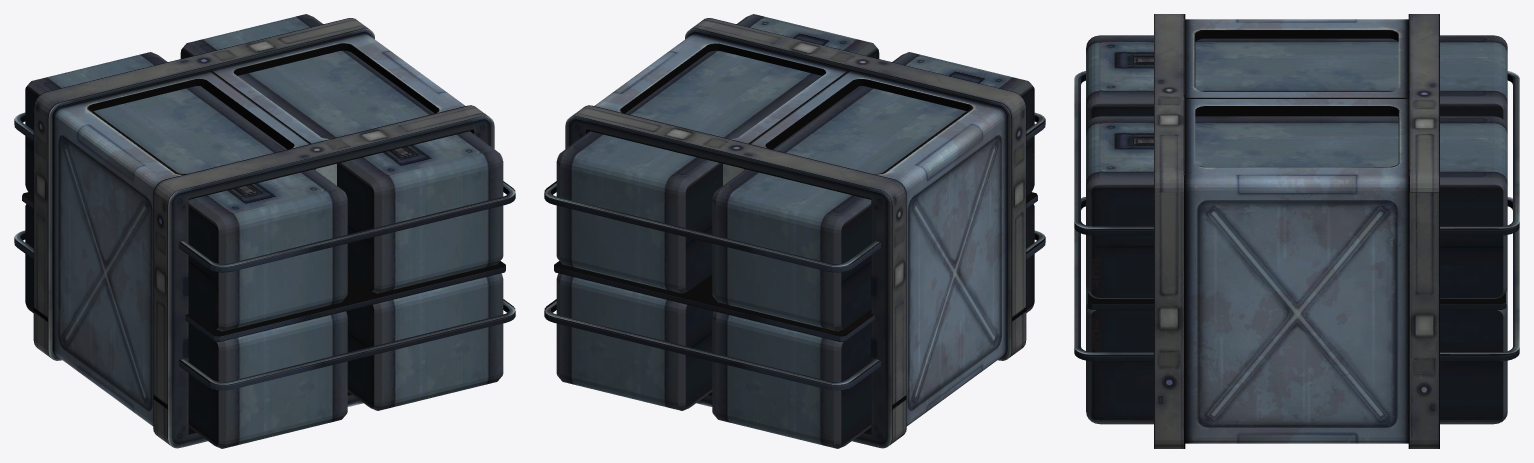
File: space-crate.obj
3 renders of one model, left to right at view 1: azimuth 30°, elevation 25°; view 2: azimuth 150°, elevation 25°; view 3: azimuth 270°, elevation 25°, orthographic. The views are drawn at different scales.
Visible parts, largest first — view 1: Mesh5 default_de1 skp51D1 Halo_3_forge_item_Spacecrate__Shitcrat, Mesh2 Component_2_2 default_de1 skp51D1 Halo_3_forge_item_Spacec, Mesh1 Component_2_1 default_de1 skp51D1 Halo_3_forge_item_Spacec, Mesh3 Component_2_3 default_de1 skp51D1 Halo_3_forge_item_Spacec, Mesh4 Component_2_4 default_de1 skp51D1 Halo_3_forge_item_Spacec, Mesh7 default_de1 skp51D1 Halo_3_forge_item_Spacecrate__Shitcrat, Mesh10 default_de1 skp51D1 Halo_3_forge_item_Spacecrate__Shitcra, Mesh8 default_de1 skp51D1 Halo_3_forge_item_Spacecrate__Shitcrat, Mesh6 default_de1 skp51D1 Halo_3_forge_item_Spacecrate__Shitcrat; view 2: Mesh5 default_de1 skp51D1 Halo_3_forge_item_Spacecrate__Shitcrat, Mesh2 Component_2_2 default_de1 skp51D1 Halo_3_forge_item_Spacec, Mesh1 Component_2_1 default_de1 skp51D1 Halo_3_forge_item_Spacec, Mesh3 Component_2_3 default_de1 skp51D1 Halo_3_forge_item_Spacec, Mesh4 Component_2_4 default_de1 skp51D1 Halo_3_forge_item_Spacec, Mesh7 default_de1 skp51D1 Halo_3_forge_item_Spacecrate__Shitcrat, Mesh11 default_de1 skp51D1 Halo_3_forge_item_Spacecrate__Shitcra, Mesh9 default_de1 skp51D1 Halo_3_forge_item_Spacecrate__Shitcrat, Mesh6 default_de1 skp51D1 Halo_3_forge_item_Spacecrate__Shitcrat; view 3: Mesh5 default_de1 skp51D1 Halo_3_forge_item_Spacecrate__Shitcrat, Mesh1 Component_2_1 default_de1 skp51D1 Halo_3_forge_item_Spacec, Mesh2 Component_2_2 default_de1 skp51D1 Halo_3_forge_item_Spacec, Mesh4 Component_2_4 default_de1 skp51D1 Halo_3_forge_item_Spacec, Mesh11 default_de1 skp51D1 Halo_3_forge_item_Spacecrate__Shitcra, Mesh10 default_de1 skp51D1 Halo_3_forge_item_Spacecrate__Shitcra, Mesh9 default_de1 skp51D1 Halo_3_forge_item_Spacecrate__Shitcrat, Mesh8 default_de1 skp51D1 Halo_3_forge_item_Spacecrate__Shitcrat, Mesh7 default_de1 skp51D1 Halo_3_forge_item_Spacecrate__Shitcrat, Mesh6 default_de1 skp51D1 Halo_3_forge_item_Spacecrate__Shitcrat.
Boxes of the visible parts, x1,y1,x2,y2 form: Mesh5 default_de1 skp51D1 Halo_3_forge_item_Spacecrate__Shitcrat: [33, 18, 494, 448]; Mesh2 Component_2_2 default_de1 skp51D1 Halo_3_forge_item_Spacec: [25, 52, 347, 331]; Mesh1 Component_2_1 default_de1 skp51D1 Halo_3_forge_item_Spacec: [180, 14, 503, 293]; Mesh3 Component_2_3 default_de1 skp51D1 Halo_3_forge_item_Spacec: [25, 204, 347, 448]; Mesh4 Component_2_4 default_de1 skp51D1 Halo_3_forge_item_Spacec: [346, 273, 503, 410]; Mesh7 default_de1 skp51D1 Halo_3_forge_item_Spacecrate__Shitcrat: [22, 192, 505, 341]; Mesh10 default_de1 skp51D1 Halo_3_forge_item_Spacecrate__Shitcra: [179, 181, 515, 272]; Mesh8 default_de1 skp51D1 Halo_3_forge_item_Spacecrate__Shitcrat: [179, 299, 515, 390]; Mesh6 default_de1 skp51D1 Halo_3_forge_item_Spacecrate__Shitcrat: [201, 86, 336, 185]; Mesh5 default_de1 skp51D1 Halo_3_forge_item_Spacecrate__Shitcrat: [565, 18, 1026, 448]; Mesh2 Component_2_2 default_de1 skp51D1 Halo_3_forge_item_Spacec: [712, 52, 1034, 331]; Mesh1 Component_2_1 default_de1 skp51D1 Halo_3_forge_item_Spacec: [556, 14, 879, 293]; Mesh3 Component_2_3 default_de1 skp51D1 Halo_3_forge_item_Spacec: [712, 204, 1034, 448]; Mesh4 Component_2_4 default_de1 skp51D1 Halo_3_forge_item_Spacec: [556, 273, 713, 410]; Mesh7 default_de1 skp51D1 Halo_3_forge_item_Spacecrate__Shitcrat: [554, 192, 1037, 341]; Mesh11 default_de1 skp51D1 Halo_3_forge_item_Spacecrate__Shitcra: [544, 181, 880, 272]; Mesh9 default_de1 skp51D1 Halo_3_forge_item_Spacecrate__Shitcrat: [544, 299, 880, 390]; Mesh6 default_de1 skp51D1 Halo_3_forge_item_Spacecrate__Shitcrat: [723, 86, 858, 185]; Mesh5 default_de1 skp51D1 Halo_3_forge_item_Spacecrate__Shitcrat: [1154, 14, 1439, 448]; Mesh1 Component_2_1 default_de1 skp51D1 Halo_3_forge_item_Spacec: [1086, 116, 1507, 298]; Mesh2 Component_2_2 default_de1 skp51D1 Halo_3_forge_item_Spacec: [1086, 35, 1507, 128]; Mesh4 Component_2_4 default_de1 skp51D1 Halo_3_forge_item_Spacec: [1086, 287, 1507, 424]; Mesh11 default_de1 skp51D1 Halo_3_forge_item_Spacecrate__Shitcra: [1440, 71, 1519, 235]; Mesh10 default_de1 skp51D1 Halo_3_forge_item_Spacecrate__Shitcra: [1074, 71, 1153, 235]; Mesh9 default_de1 skp51D1 Halo_3_forge_item_Spacecrate__Shitcrat: [1440, 197, 1519, 361]; Mesh8 default_de1 skp51D1 Halo_3_forge_item_Spacecrate__Shitcrat: [1074, 197, 1153, 361]; Mesh7 default_de1 skp51D1 Halo_3_forge_item_Spacecrate__Shitcrat: [1088, 293, 1505, 309]; Mesh6 default_de1 skp51D1 Halo_3_forge_item_Spacecrate__Shitcrat: [1196, 113, 1397, 116].
Bounding box in the file's own units: 2.4 × 1.82 × 2.66.
